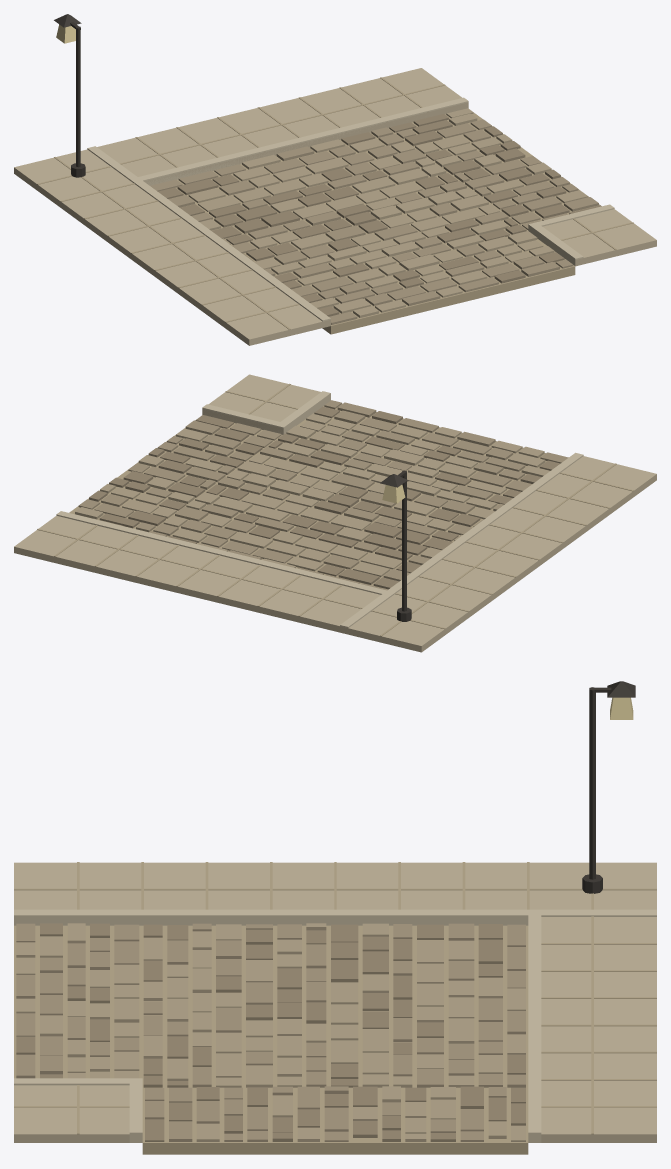
File: yol-kose.glb
3 views of the same model, one above another, from view 1: azimuth 30°, elevation 25°; view 2: azimuth 150°, elevation 25°; view 3: azimuth 270°, elevation 25° (orthographic). The views are drawn at different scales.
Visible parts, largest first — view 1: kaldirim, yol2, yol, yol3, harc, bordur, demir; view 2: kaldirim, yol2, yol, yol3, harc, bordur, demir; view 3: kaldirim, yol2, harc, yol, yol3, bordur, demir.
Boxes of the visible parts, bbox=[...] form: kaldirim: bbox=[14, 68, 656, 345]; yol2: bbox=[188, 108, 588, 317]; yol: bbox=[150, 119, 598, 324]; yol3: bbox=[158, 113, 601, 316]; harc: bbox=[37, 77, 633, 334]; bordur: bbox=[87, 97, 614, 321]; demir: bbox=[54, 14, 85, 177]; kaldirim: bbox=[14, 374, 656, 652]; yol2: bbox=[75, 413, 549, 577]; yol: bbox=[78, 400, 568, 590]; yol3: bbox=[89, 406, 560, 589]; harc: bbox=[37, 383, 633, 636]; bordur: bbox=[56, 391, 583, 633]; demir: bbox=[380, 470, 411, 621]; kaldirim: bbox=[14, 862, 656, 1142]; yol2: bbox=[16, 923, 525, 1141]; harc: bbox=[14, 862, 656, 1154]; yol: bbox=[16, 923, 525, 1141]; yol3: bbox=[16, 923, 525, 1141]; bordur: bbox=[14, 909, 656, 1142]; demir: bbox=[582, 681, 635, 893].
Size of the model in its own units: 10 by 3.92 by 10.
